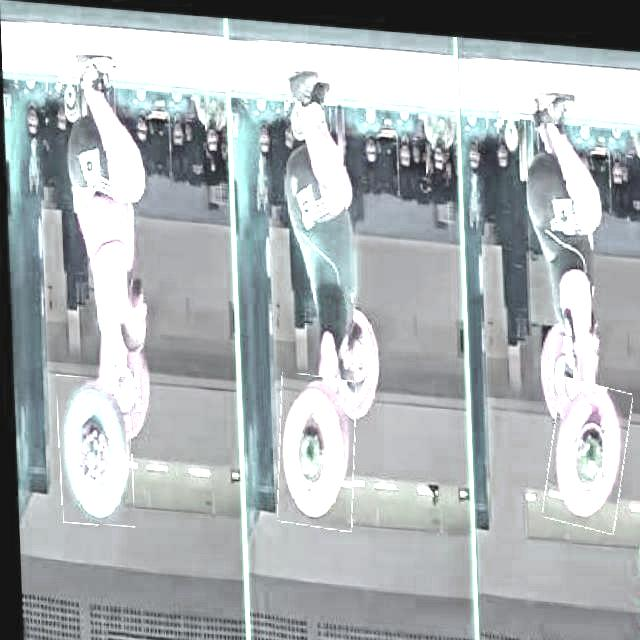barbell: (542, 369, 630, 524), (272, 369, 355, 527), (54, 374, 131, 527)
